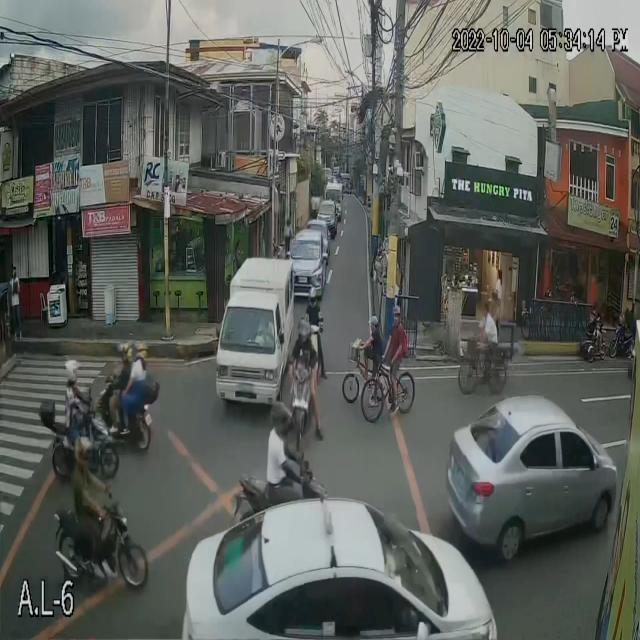Full-Faced: (272, 392, 294, 435), (76, 430, 98, 468), (64, 354, 86, 391), (116, 339, 133, 370), (135, 340, 150, 365), (305, 282, 320, 306), (298, 316, 312, 340)
